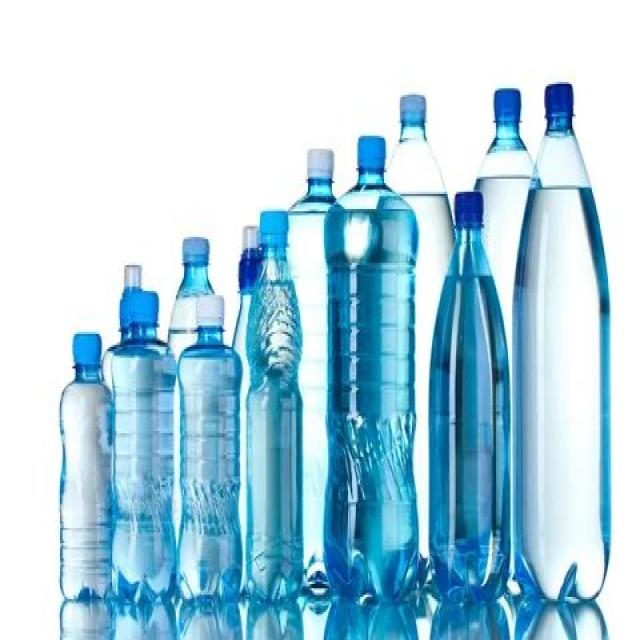blue: (245, 244, 304, 600), (109, 327, 176, 605), (180, 330, 242, 603)
